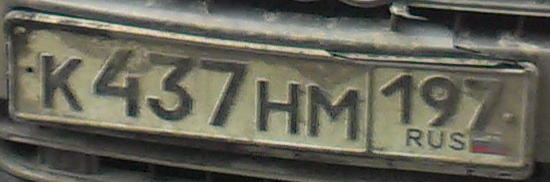character: (198, 52, 252, 134), (89, 43, 143, 123), (143, 48, 198, 125), (304, 77, 361, 143), (36, 47, 88, 117), (253, 72, 302, 140), (459, 69, 505, 132), (414, 69, 461, 129), (377, 68, 416, 127)
